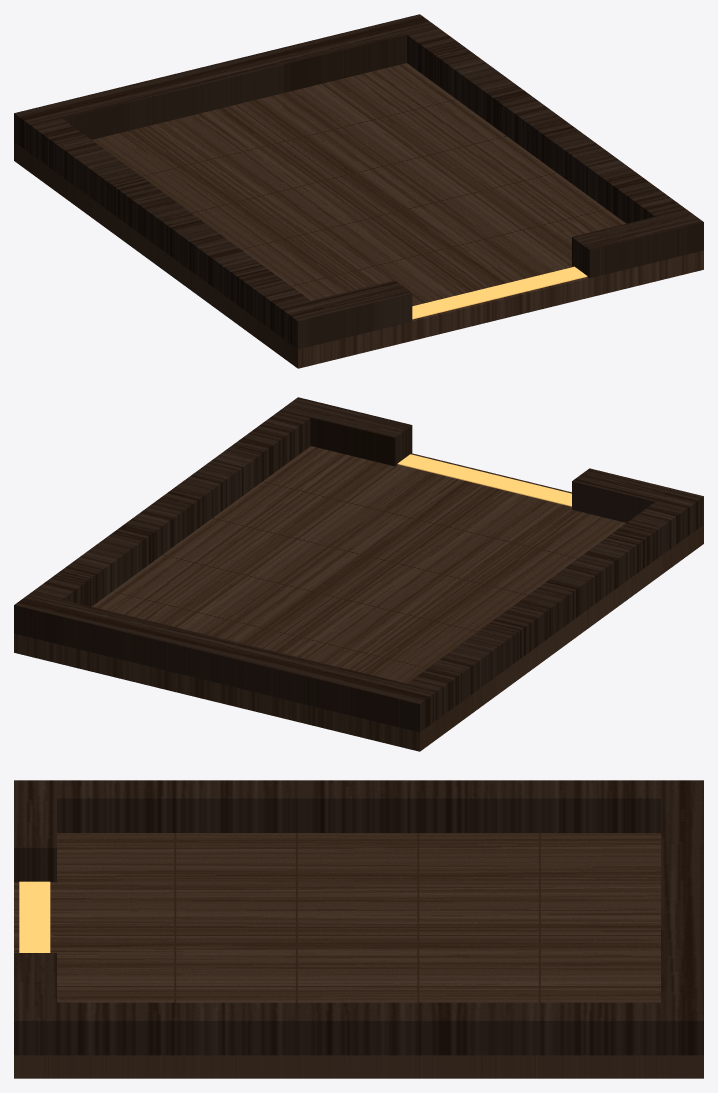
3 views of the same model, one above another, from view 1: azimuth 30°, elevation 25°; view 2: azimuth 150°, elevation 25°; view 3: azimuth 270°, elevation 25° (orthographic). The views are drawn at different scales.
Parts seen in each view (by area): view 1: box; view 2: box; view 3: box.
Boxes of the visible parts, x1,y1,x2,y2 form: box: [14, 14, 703, 368]; box: [14, 397, 703, 751]; box: [14, 780, 703, 1078].
Bounding box in the file's own units: 0.33 × 0.037 × 0.4.
Materials: 3 (2 with a texture image).
